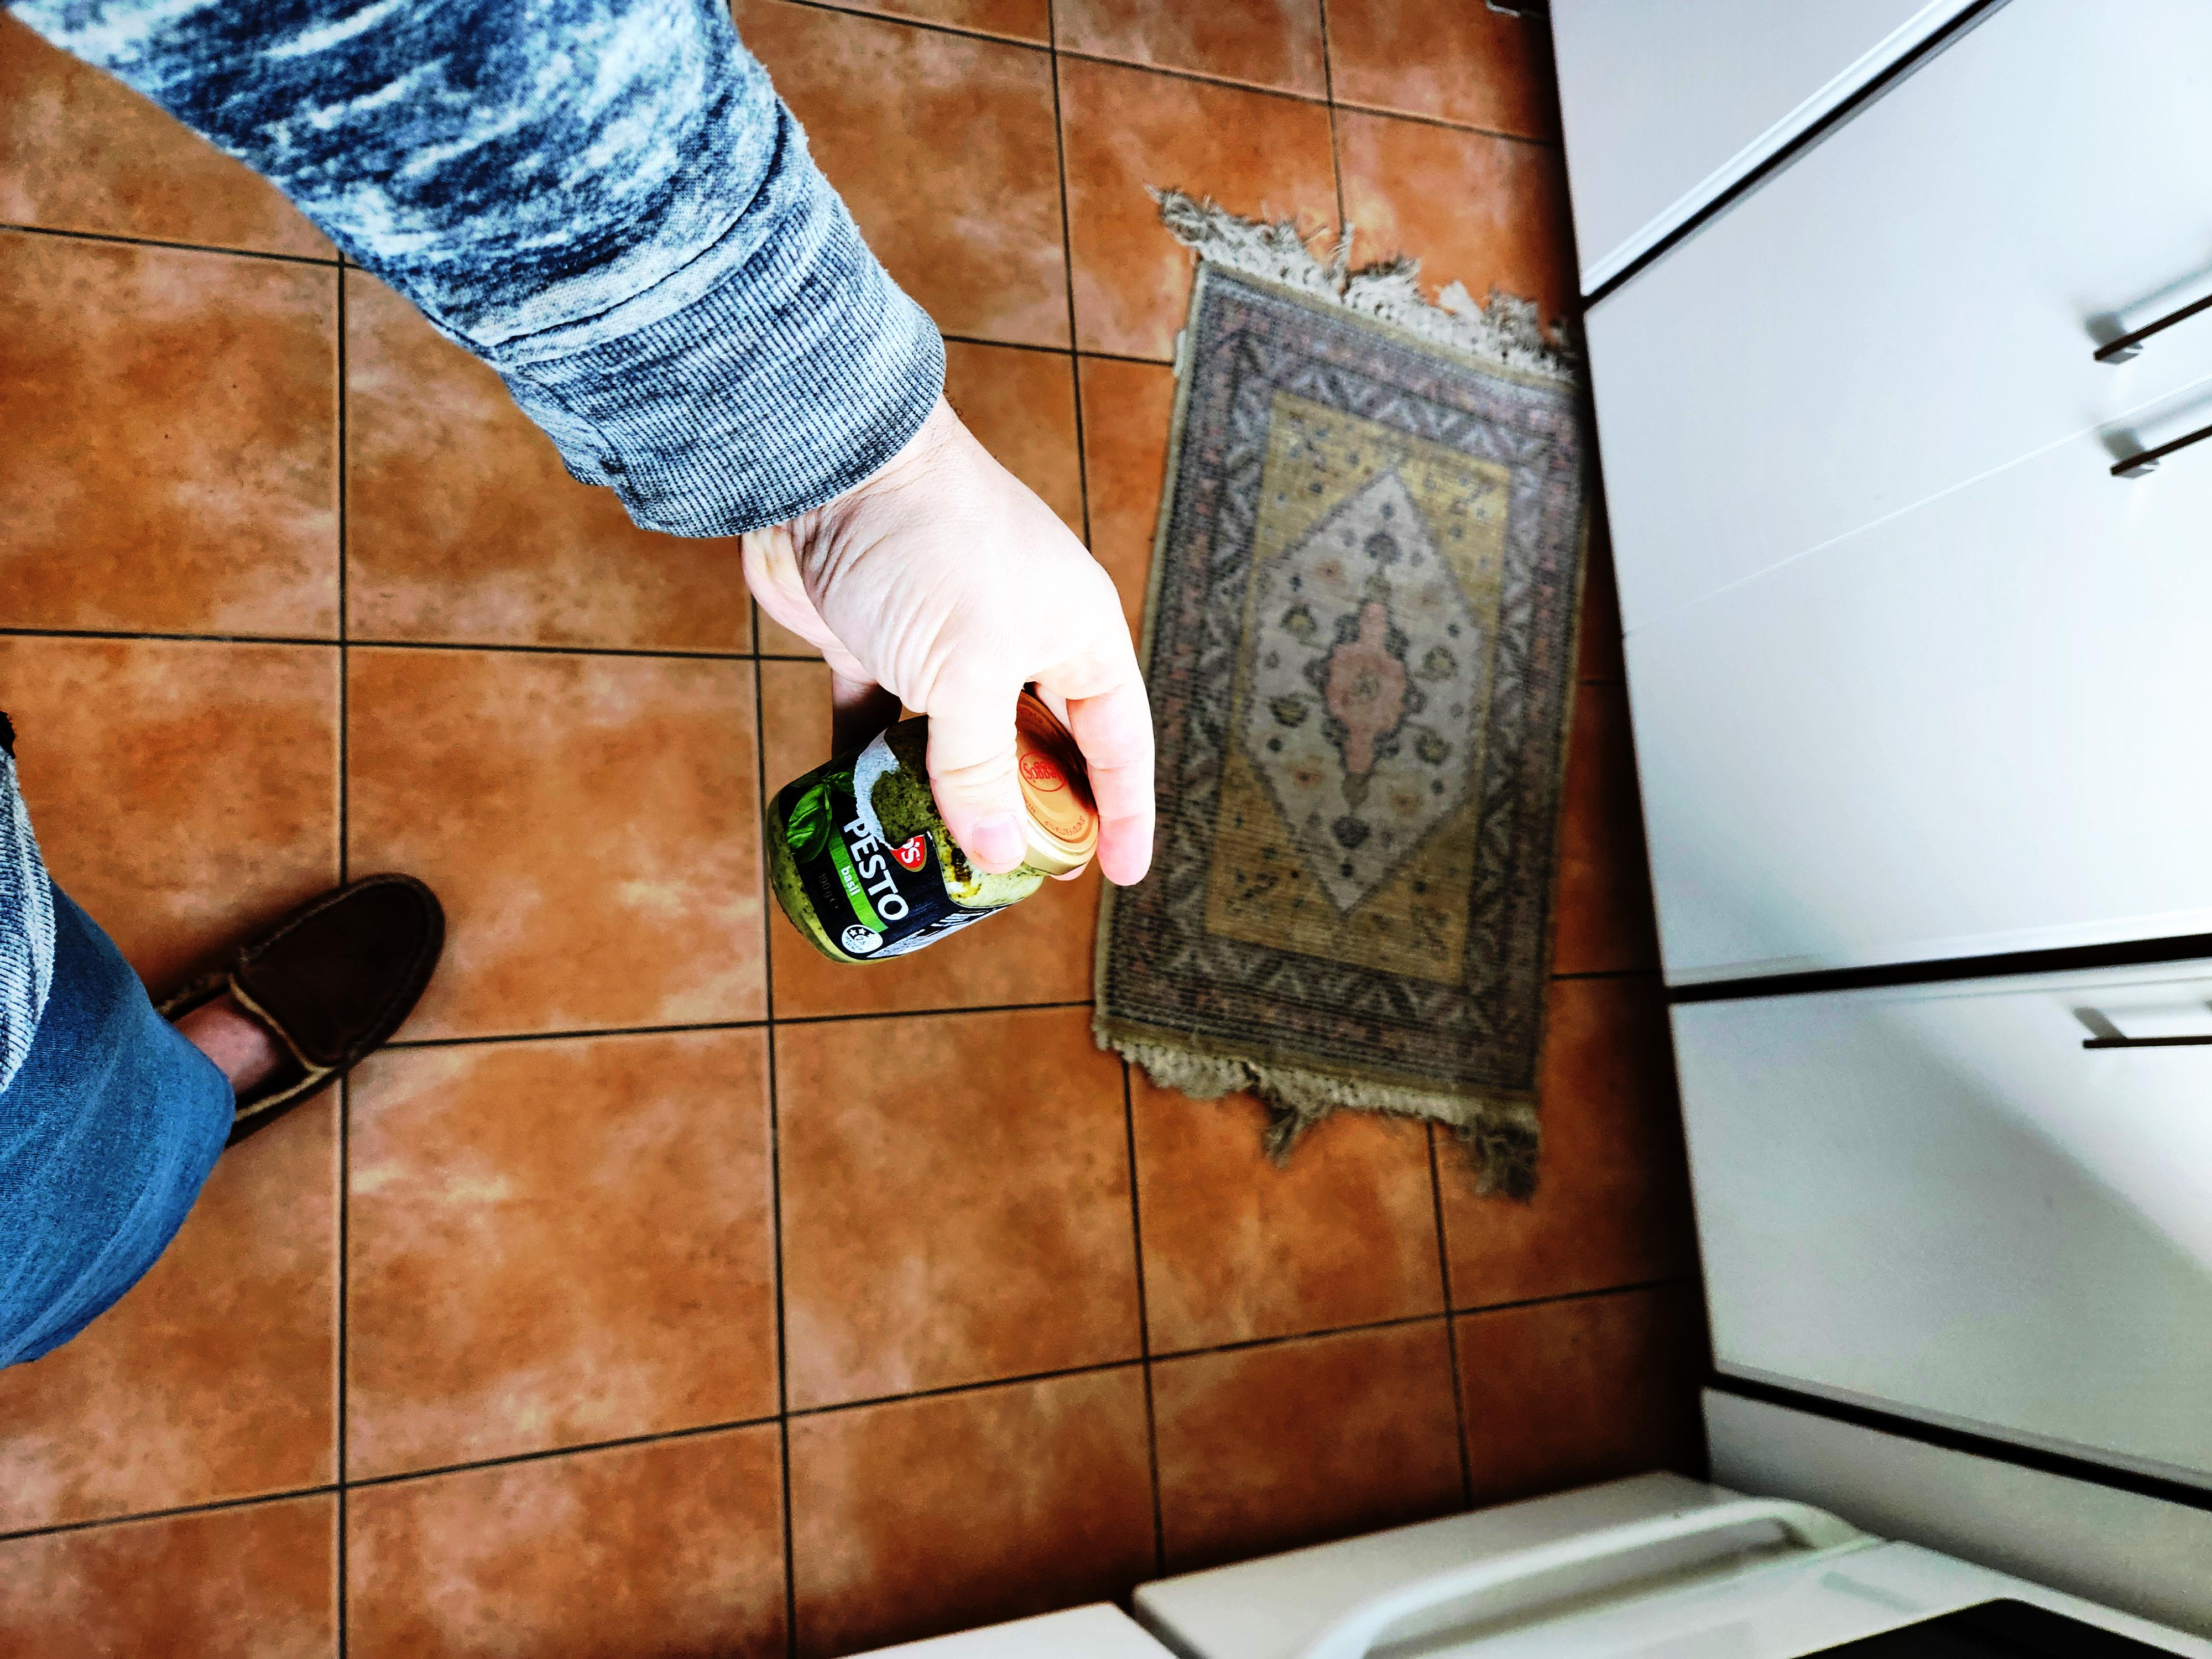basil pesto: (775, 692, 1103, 965)
